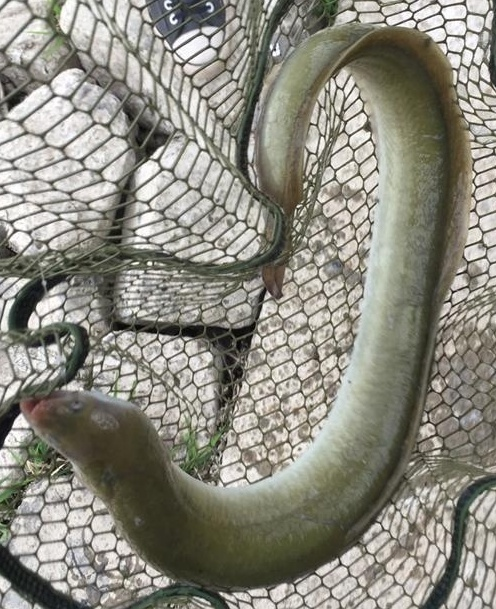Anguilla anguilla: (20, 20, 476, 589)
